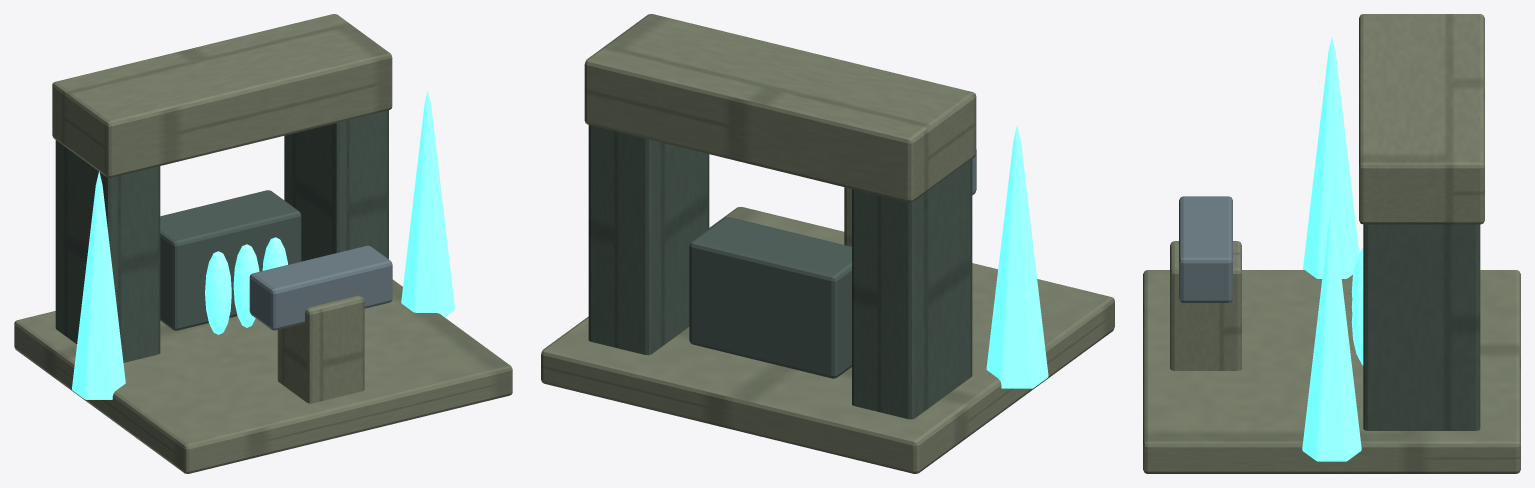
The model's file is runeforge.glb.
3 renders of one model, left to right at view 1: azimuth 30°, elevation 25°; view 2: azimuth 150°, elevation 25°; view 3: azimuth 270°, elevation 25°, orthographic. The views are drawn at different scales.
Parts seen in each view (by area): view 1: forge_base, lintel, forge_pillar, forge_pillar.001, furnace, anvil, anvil_pedestal, rune_spire, rune_spire.001, rune_fire, rune_fire.001, rune_fire.002; view 2: lintel, forge_base, forge_pillar, forge_pillar.001, furnace, rune_spire; view 3: forge_base, lintel, forge_pillar.001, rune_spire.001, rune_spire, anvil_pedestal, anvil, rune_fire.002.
Boxes of the visible parts, x1,y1,x2,y2 form: forge_base: [14, 279, 512, 473]; lintel: [52, 14, 392, 177]; forge_pillar: [55, 140, 160, 362]; forge_pillar.001: [284, 110, 388, 261]; furnace: [160, 190, 301, 330]; anvil: [249, 245, 392, 330]; anvil_pedestal: [277, 295, 364, 403]; rune_spire: [72, 171, 125, 399]; rune_spire.001: [401, 91, 454, 317]; rune_fire: [205, 251, 231, 334]; rune_fire.001: [233, 244, 259, 327]; rune_fire.002: [262, 237, 287, 270]; lintel: [584, 14, 976, 202]; forge_base: [541, 207, 1114, 473]; forge_pillar: [852, 159, 972, 419]; forge_pillar.001: [588, 125, 709, 355]; furnace: [689, 217, 851, 378]; rune_spire: [986, 125, 1048, 388]; forge_base: [1143, 270, 1520, 473]; lintel: [1359, 14, 1484, 224]; forge_pillar.001: [1363, 224, 1480, 430]; rune_spire.001: [1302, 212, 1361, 461]; rune_spire: [1302, 37, 1359, 278]; anvil_pedestal: [1170, 241, 1241, 370]; anvil: [1179, 196, 1232, 302]; rune_fire.002: [1351, 278, 1363, 365].
Bounding box in the file's own units: 2.59 × 1.84 × 2.1.
5 materials, 2 textured.
